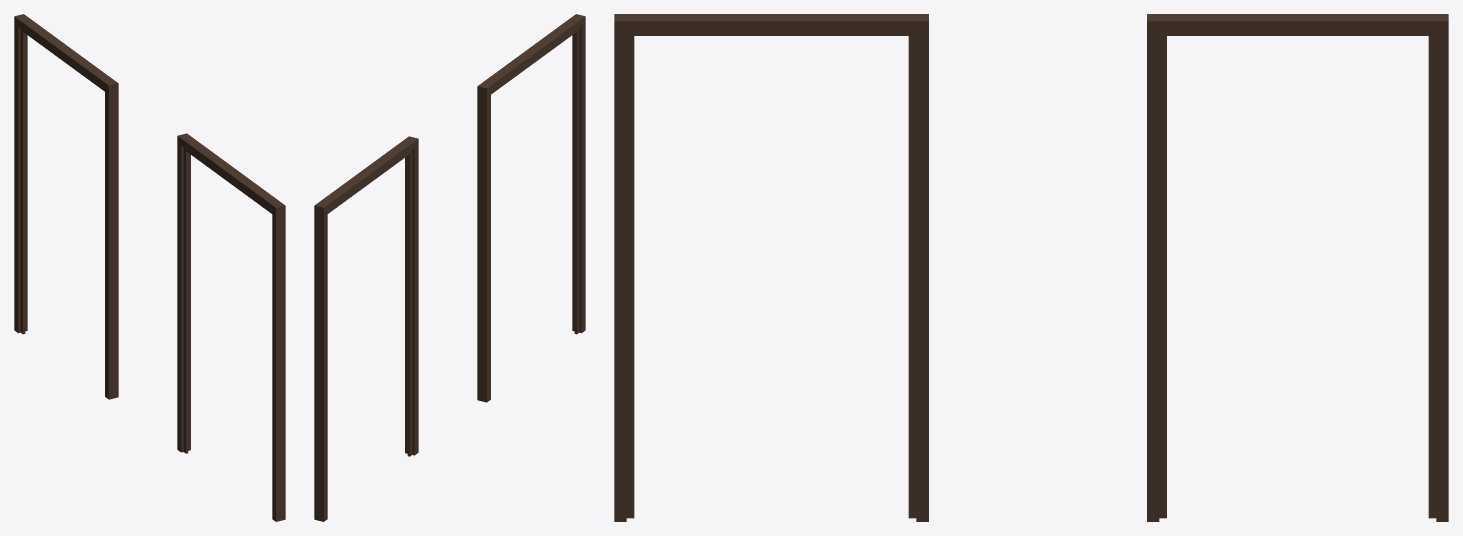
The model's file is MARCO_PUERTA.fbx.
3 renders of one model, left to right at view 1: azimuth 30°, elevation 25°; view 2: azimuth 150°, elevation 25°; view 3: azimuth 270°, elevation 25°, orthographic. The views are drawn at different scales.
Visible parts, largest first — view 1: paredfrontal3; view 2: paredfrontal3; view 3: paredfrontal3.
Part boxes in pixels (x1,y1,x2,y2): paredfrontal3: [14, 14, 285, 521]; paredfrontal3: [314, 14, 585, 521]; paredfrontal3: [614, 14, 1448, 521].
Bounding box in the file's own units: 7 × 220 × 332.
